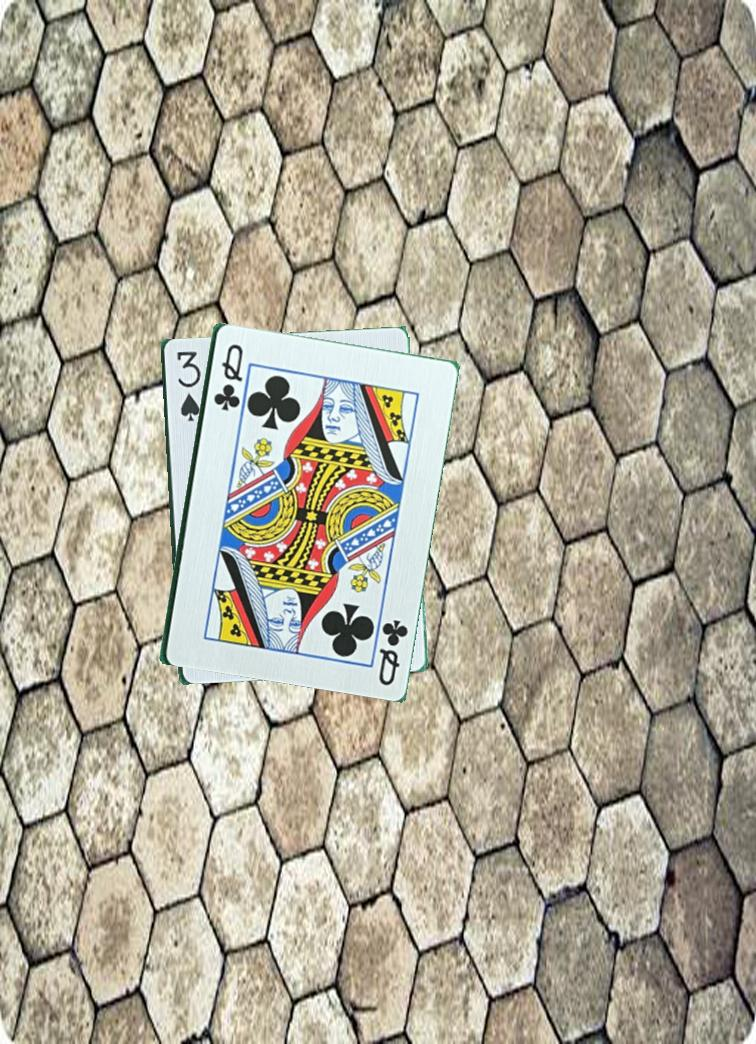3s: (174, 348, 202, 430)
qc: (374, 615, 411, 688), (210, 339, 246, 414)
